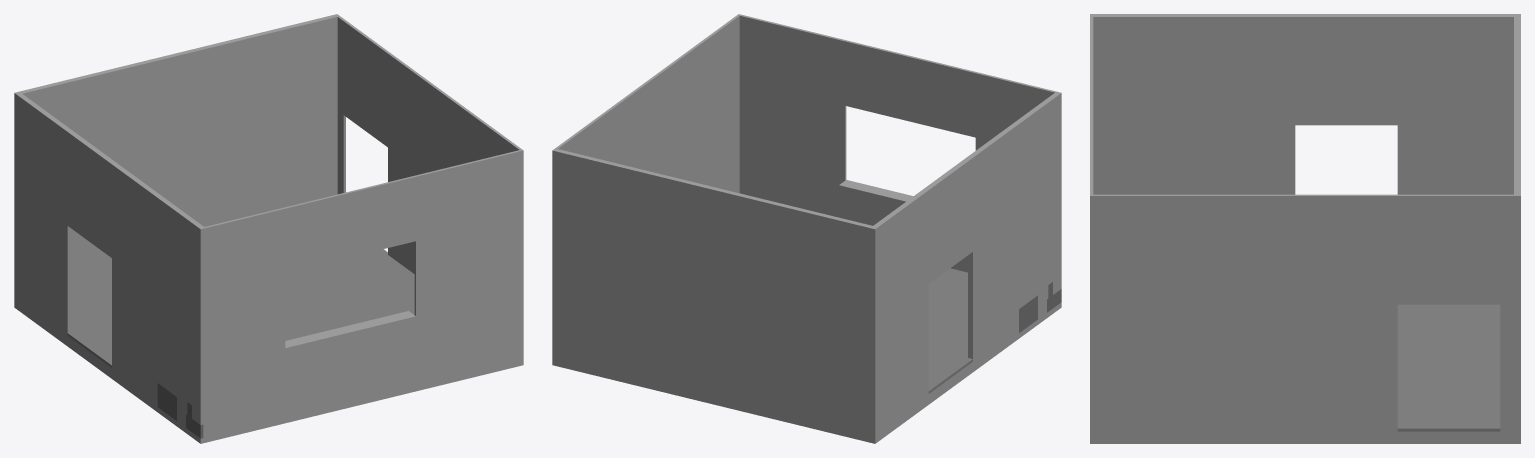
The model's file is 4x2 first-0.obj.
The picture shows the model from 3 angles, left to right: view 1: azimuth 30°, elevation 25°; view 2: azimuth 150°, elevation 25°; view 3: azimuth 270°, elevation 25°; orthographic projection. The views are drawn at different scales.
Visible parts, largest first — view 1: 4x2 first-0; view 2: 4x2 first-0; view 3: 4x2 first-0.
Boxes of the visible parts, x1,y1,x2,y2 form: 4x2 first-0: [14, 14, 523, 443]; 4x2 first-0: [552, 14, 1061, 443]; 4x2 first-0: [1090, 14, 1520, 443].
Bounding box in the file's own units: 126 × 80 × 126.
Materials: 1 (1 with a texture image).
